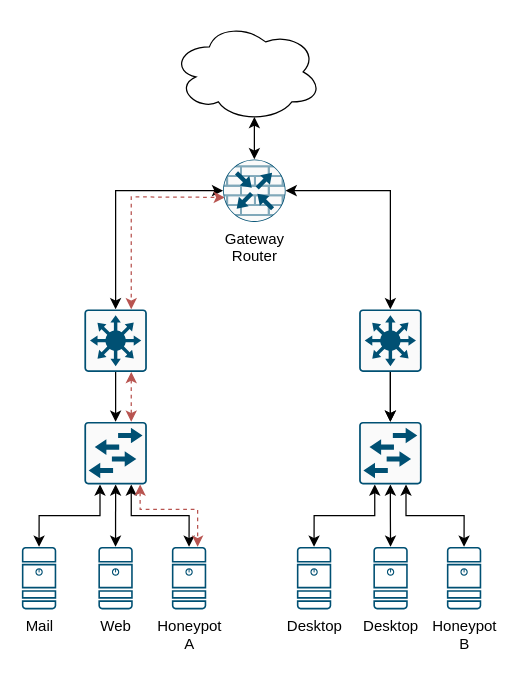
The diagram is 518 pixels wide and 676 high, and some of its shapes have lost their labels. The centre of each missing label's shape, as x and y in pixels:
DMZ: (x=115, y=340)
Internal: (x=390, y=340)
Internet: (x=246, y=71)
